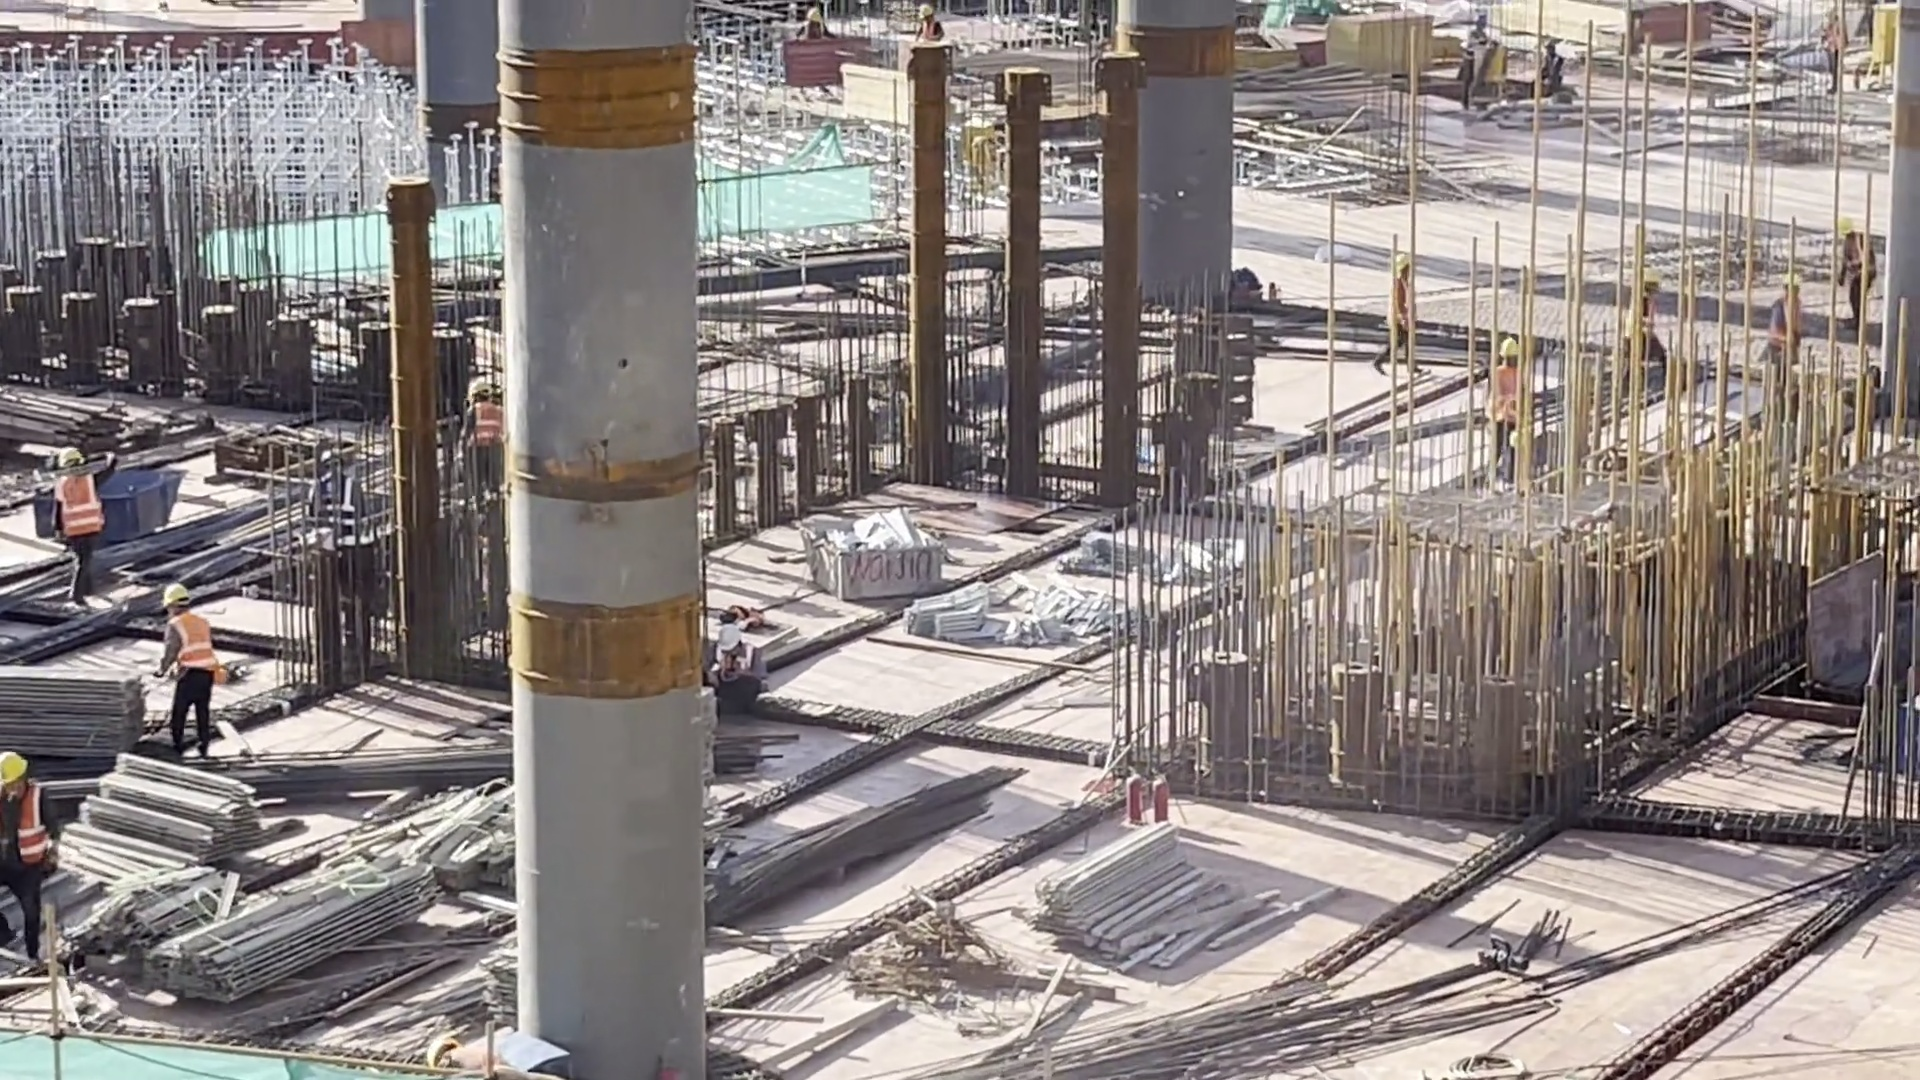helmet: (1, 757, 43, 789), (715, 613, 745, 652), (55, 438, 82, 476), (338, 428, 366, 460), (1830, 208, 1855, 241), (466, 372, 493, 395), (164, 582, 192, 602), (1780, 269, 1804, 294), (1496, 334, 1512, 360), (1645, 271, 1658, 290)
hopper: (797, 493, 956, 595), (38, 457, 192, 538)
person: (1, 743, 82, 948), (306, 434, 381, 653), (141, 564, 226, 752), (689, 606, 775, 726), (29, 439, 110, 567), (451, 365, 526, 498), (1471, 324, 1529, 486), (1614, 258, 1670, 386), (1829, 205, 1881, 339), (1760, 272, 1815, 368), (1389, 249, 1418, 378), (1460, 13, 1493, 105), (907, 1, 947, 53), (804, 6, 829, 38)
vest: (148, 600, 223, 687), (1, 787, 54, 872), (52, 465, 107, 537), (318, 479, 371, 545), (464, 401, 510, 453), (1489, 368, 1518, 442), (1773, 286, 1807, 345), (1382, 280, 1415, 330), (1632, 286, 1656, 334)
wood: (1037, 816, 1266, 976), (167, 868, 438, 995), (1, 654, 169, 785), (89, 749, 264, 869)
